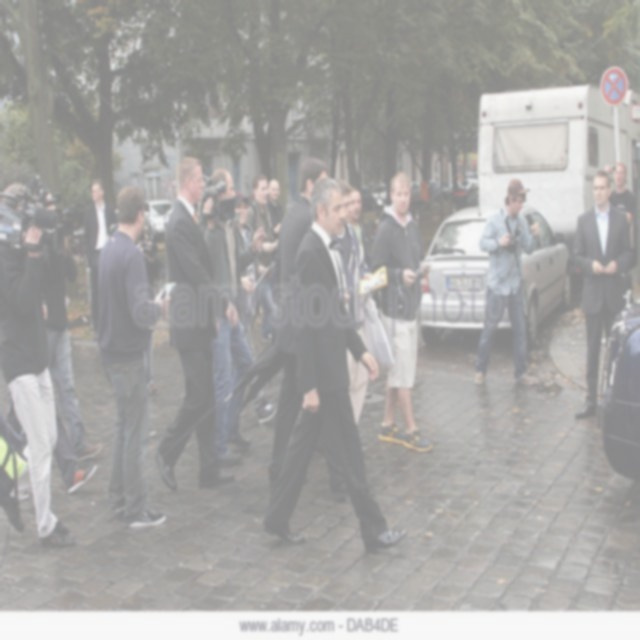pessoa: (261, 173, 410, 553), (151, 153, 240, 491), (0, 178, 77, 548), (97, 183, 168, 530), (268, 158, 335, 490), (35, 186, 105, 465), (367, 168, 434, 452), (197, 166, 256, 468), (571, 167, 635, 421), (472, 176, 541, 387), (333, 178, 379, 428), (229, 189, 275, 425), (2, 386, 98, 498), (123, 204, 161, 394), (242, 170, 280, 344), (83, 174, 119, 340), (264, 176, 287, 308), (349, 184, 373, 270), (608, 162, 638, 230), (416, 170, 429, 207), (455, 168, 465, 196)
